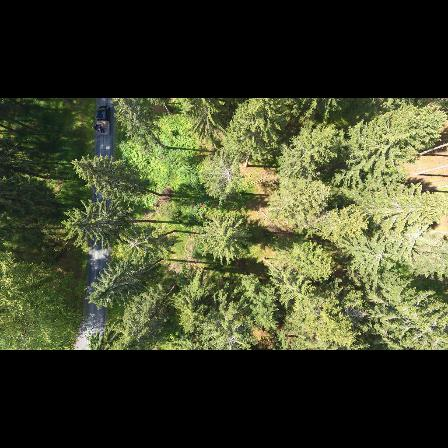Sick: (212, 156, 243, 193), (120, 230, 146, 261)
